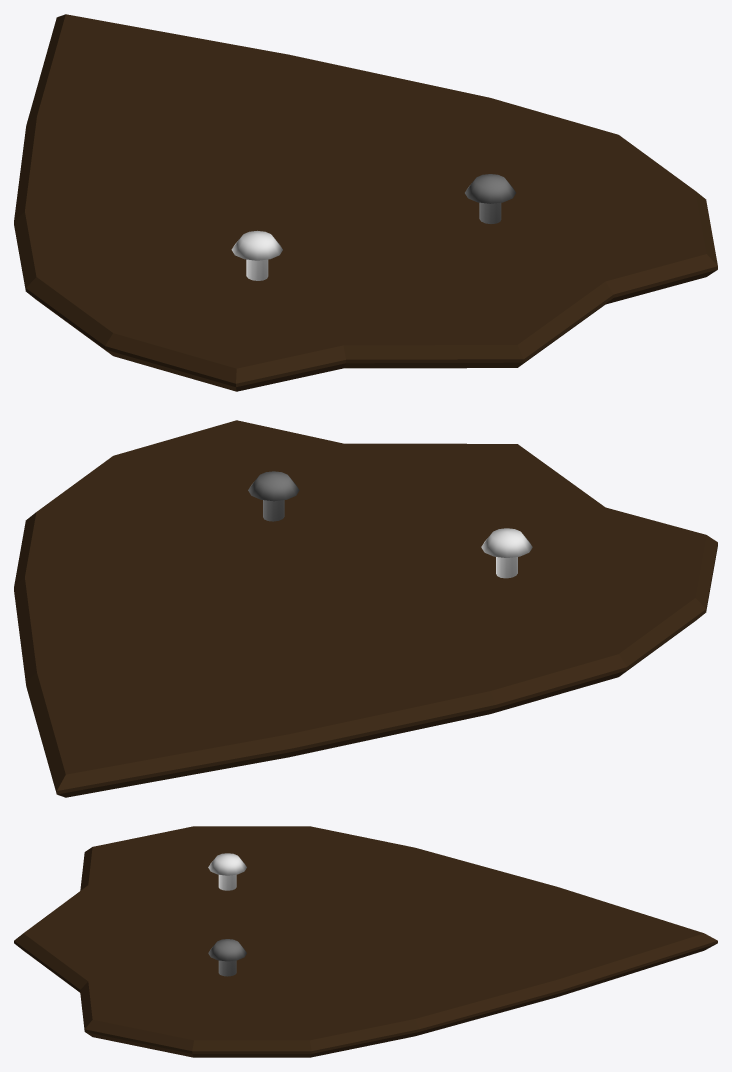
The model's file is Holder.fbx.
3 renders of one model, top to bottom at view 1: azimuth 30°, elevation 25°; view 2: azimuth 150°, elevation 25°; view 3: azimuth 270°, elevation 25°, orthographic. The views are drawn at different scales.
Visible parts, largest first — view 1: Holder, Holder_2, Holder_1; view 2: Holder, Holder_1, Holder_2; view 3: Holder, Holder_2, Holder_1.
Boxes of the visible parts, <box> form: Holder: <box>14,14,717,391</box>; Holder_2: <box>231,230,282,280</box>; Holder_1: <box>465,174,515,223</box>; Holder: <box>14,420,717,797</box>; Holder_1: <box>248,471,299,521</box>; Holder_2: <box>481,528,532,578</box>; Holder: <box>14,826,717,1057</box>; Holder_2: <box>208,853,246,890</box>; Holder_1: <box>208,939,246,976</box>.
Size of the model in its own units: 0.7799 by 1.05 by 0.0799.
